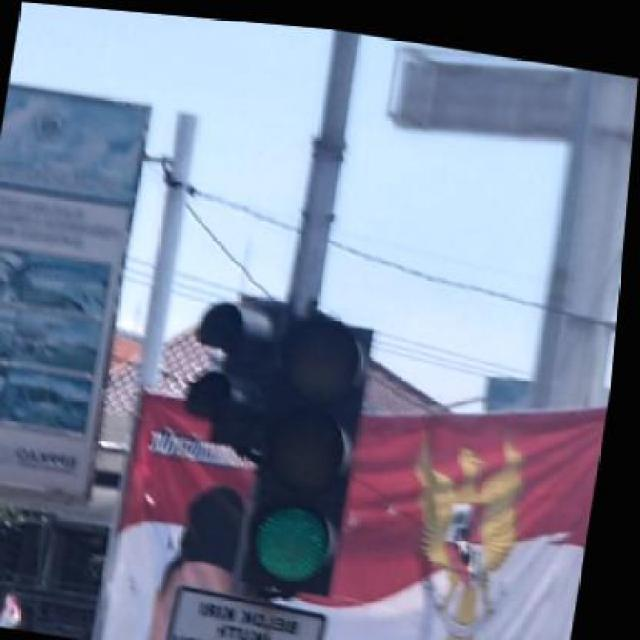green-traffic-lights: (248, 313, 349, 594)
